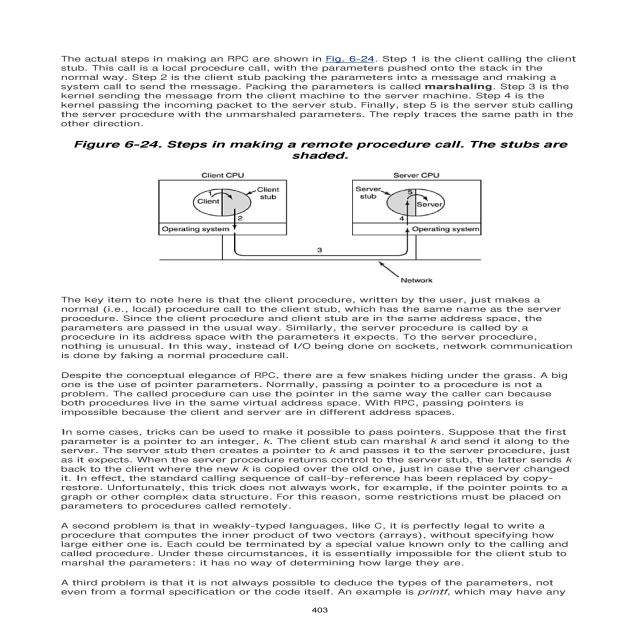diagram: (51, 128, 606, 291)
